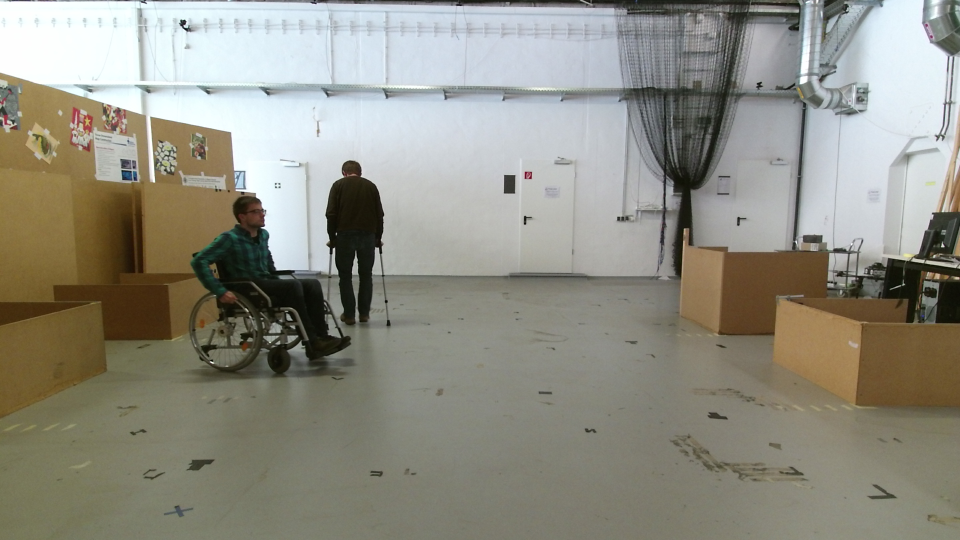crutches: (317, 154, 399, 342)
wheelchair: (163, 187, 342, 387)
